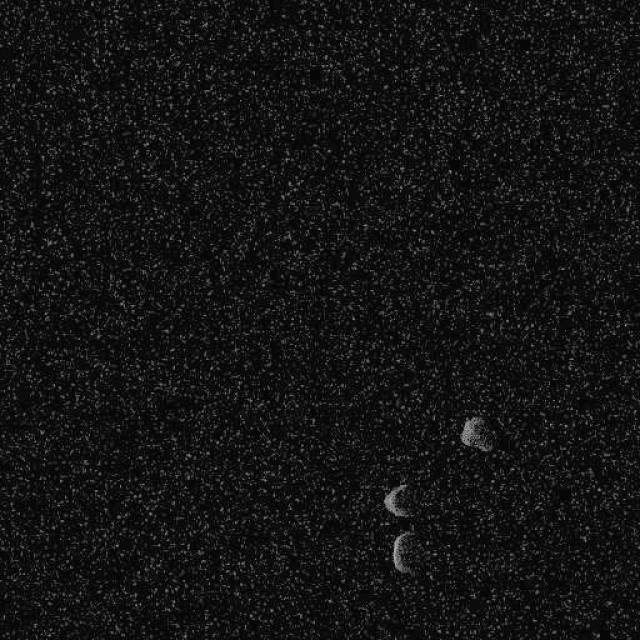D2: (459, 415, 495, 453), (391, 530, 419, 575), (382, 482, 413, 518)
